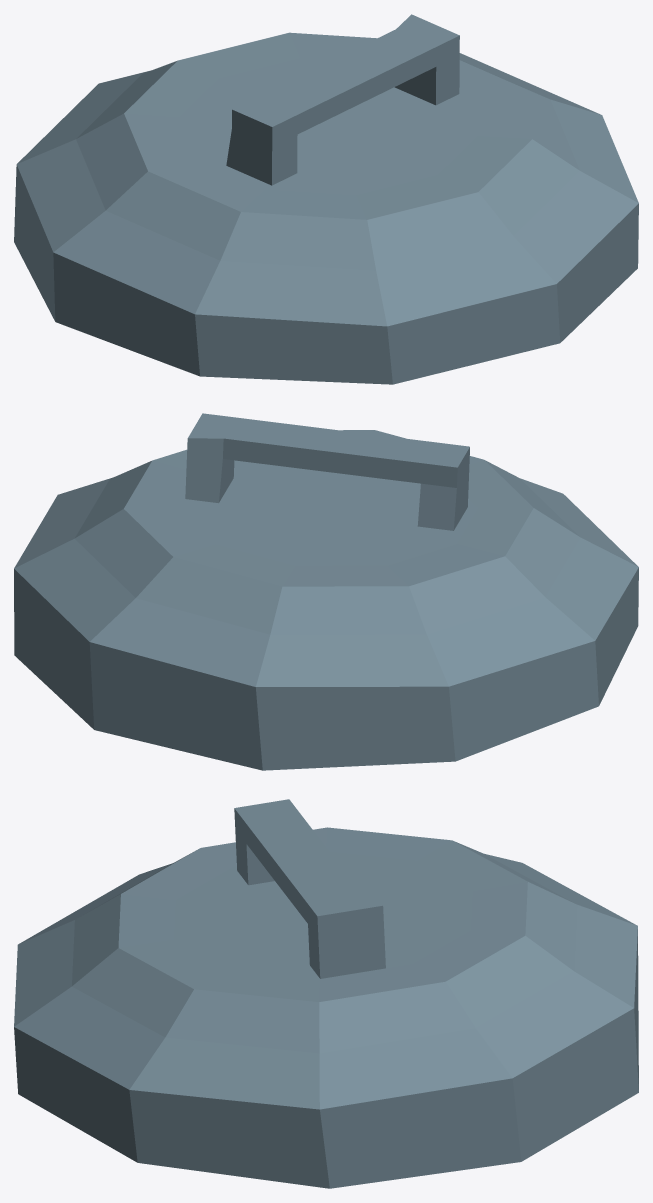
Rendered from BinLid.obj.
The picture shows the model from 3 angles, top to bottom: view 1: azimuth 30°, elevation 25°; view 2: azimuth 150°, elevation 25°; view 3: azimuth 270°, elevation 25°; orthographic projection. The views are drawn at different scales.
Visible parts, largest first — view 1: group1926014716, group823671443; view 2: group1926014716, group823671443; view 3: group1926014716, group823671443.
Boxes of the visible parts, x1,y1,x2,y2 form: group1926014716: [14, 32, 638, 384]; group823671443: [226, 14, 459, 185]; group1926014716: [14, 430, 638, 770]; group823671443: [185, 413, 469, 530]; group1926014716: [14, 827, 638, 1188]; group823671443: [234, 799, 385, 978].
Bounding box in the file's own units: 0.1902 × 0.0649 × 0.1819.
